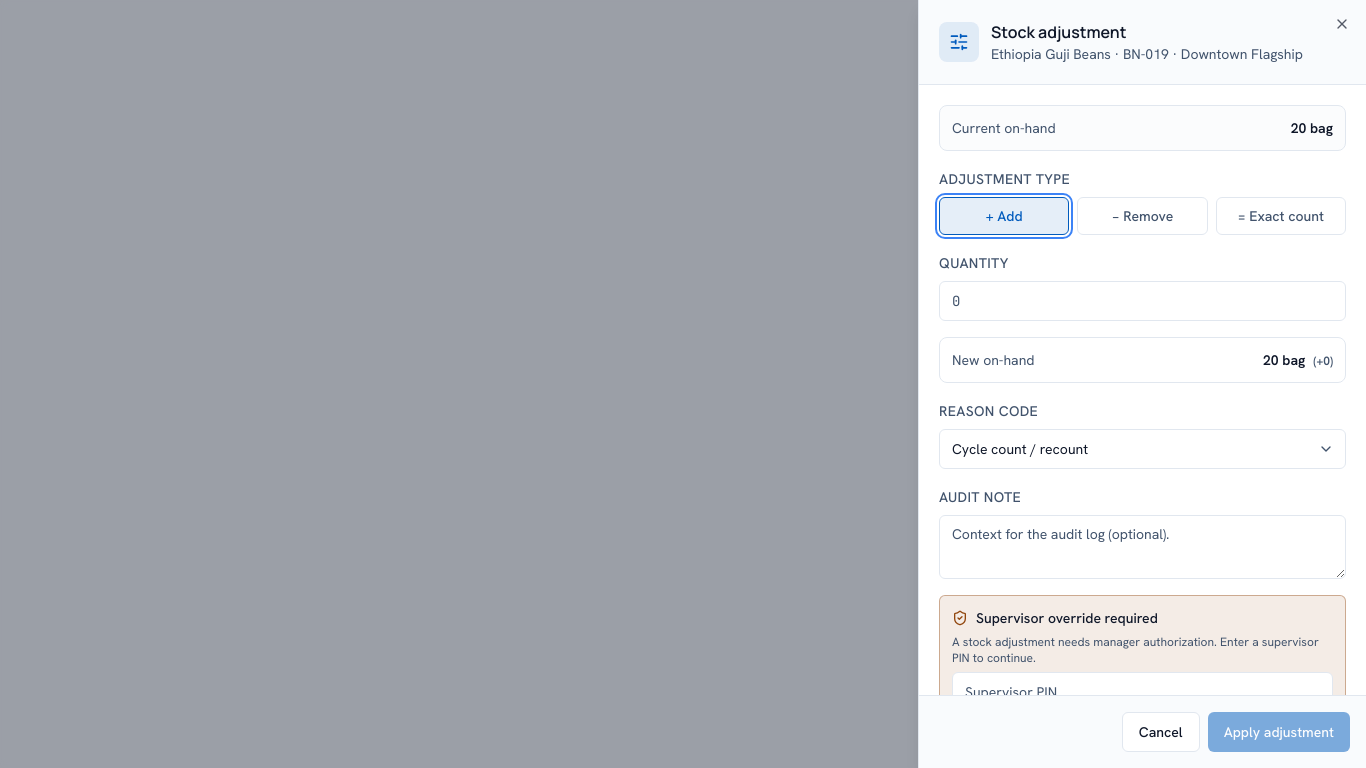
Scenario: AdjustmentDrawer › switches to exact-count mode and previews the delta
Click the button "= Exact count" at (1281, 216), box [1216,197,1346,235]
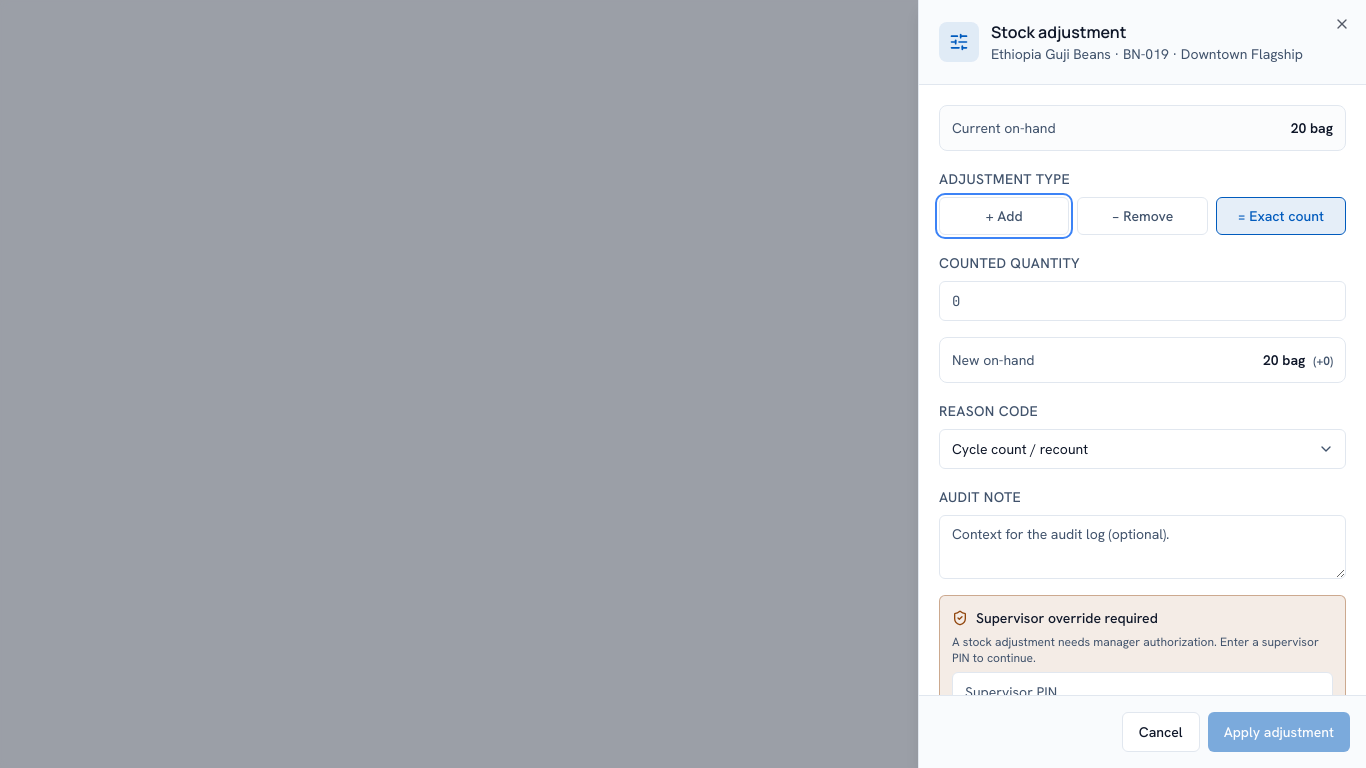
Type "8" into the field labelled "Counted quantity" at (1142, 301), box [939,281,1346,321]
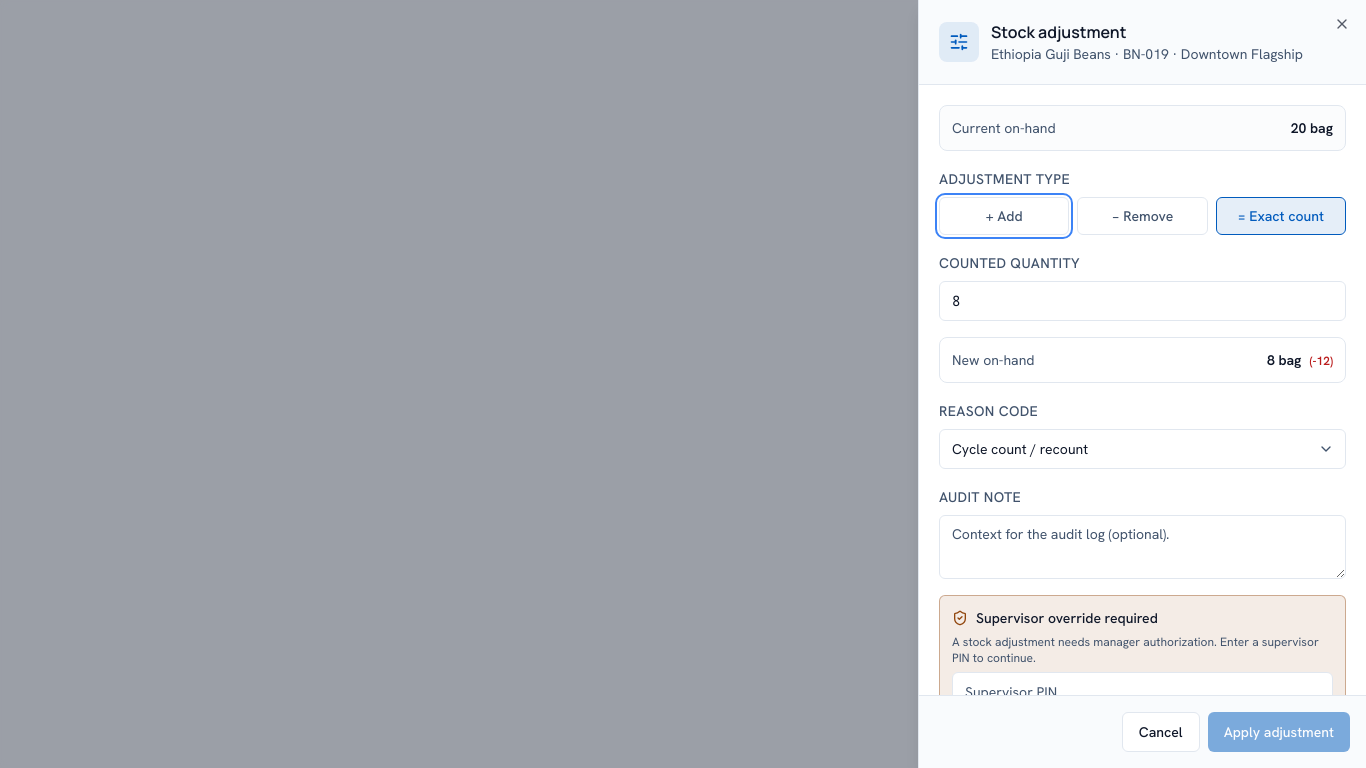
Expected: the text "(-12)" is shown, [1309,353,1333,369]
